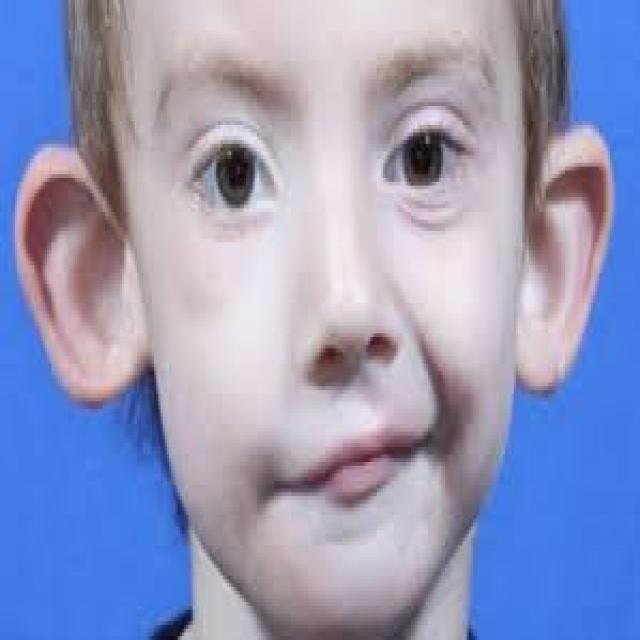stroke_face: (73, 7, 591, 640)
